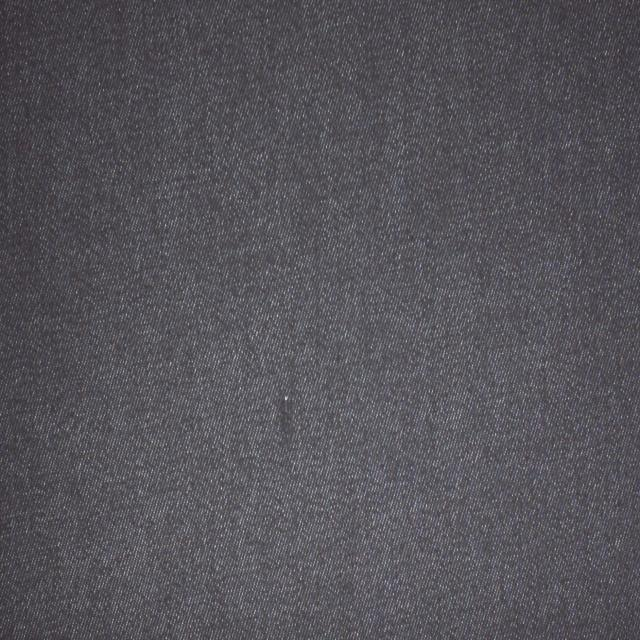Knot: (274, 396, 295, 438)
